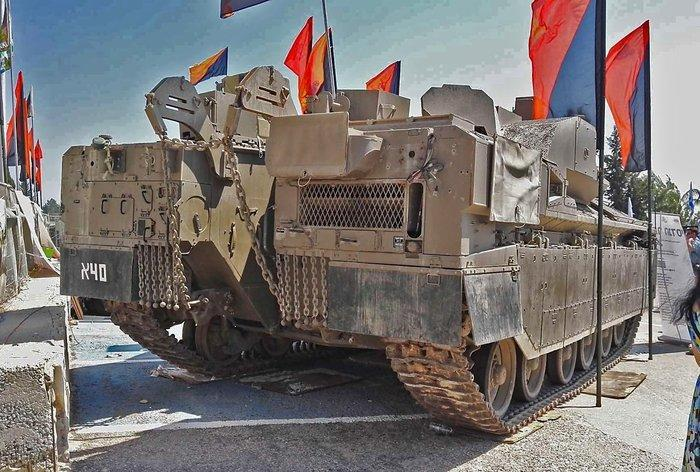MIL_IFV: (57, 65, 660, 437)
